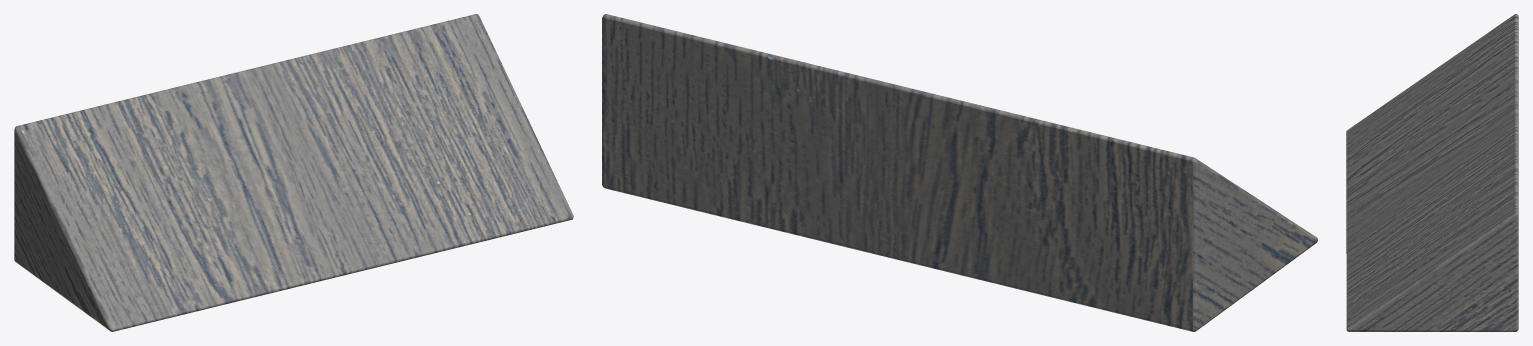
The model's file is HalfRoof.obj.
3 renders of one model, left to right at view 1: azimuth 30°, elevation 25°; view 2: azimuth 150°, elevation 25°; view 3: azimuth 270°, elevation 25°, orthographic. The views are drawn at different scales.
Visible parts, largest first — view 1: HalfRoof; view 2: HalfRoof; view 3: HalfRoof.
Part boxes in pixels (box(x1,y1,x2,y2)): HalfRoof: box(14, 14, 573, 331); HalfRoof: box(602, 14, 1317, 331); HalfRoof: box(1346, 14, 1518, 331).
Size of the model in its own units: 400 by 112 by 145.
Materials: 1 (1 with a texture image).
